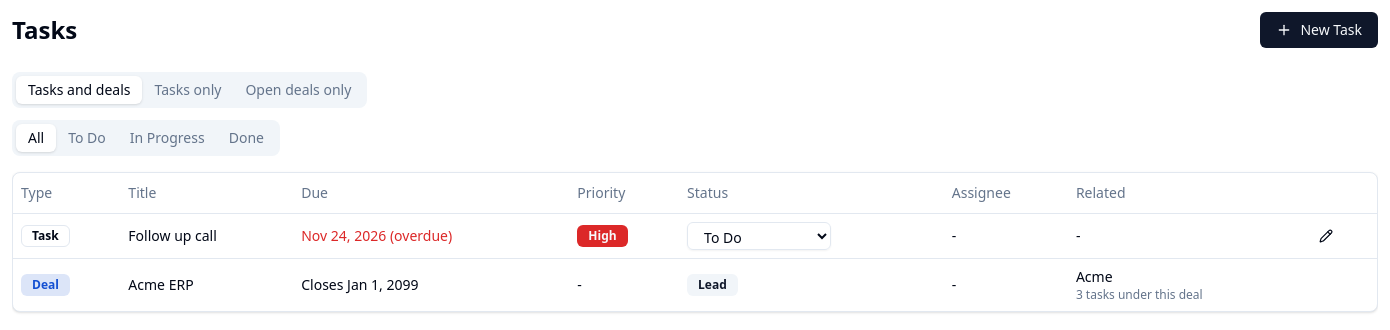
Scenario: Tasks page with deals in the task family › hides deals when a task status is chosen, because deals have stages instead
Expected: the link "Acme ERP" is shown, [128, 274, 194, 294]
Click the button "Done" at (246, 138), box [217, 124, 276, 152]
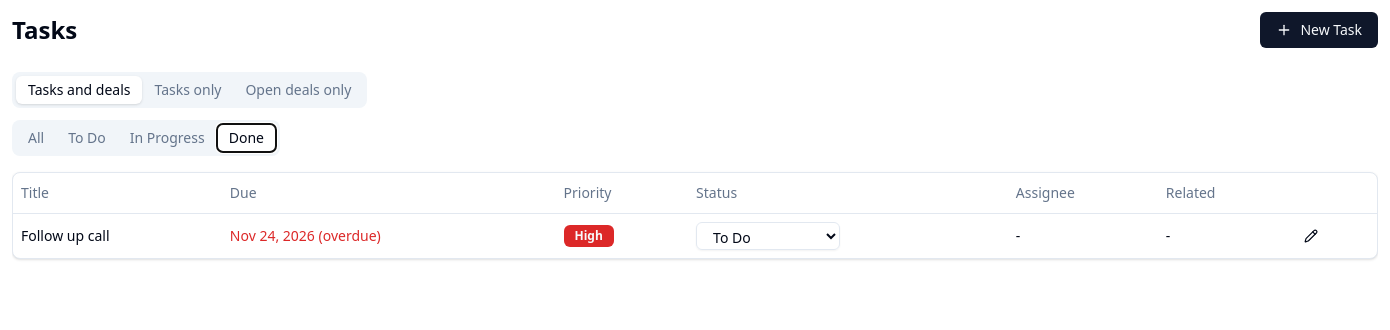
Expected: the link "Acme ERP" is gone
